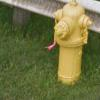Hydrant: (45, 0, 95, 86)
